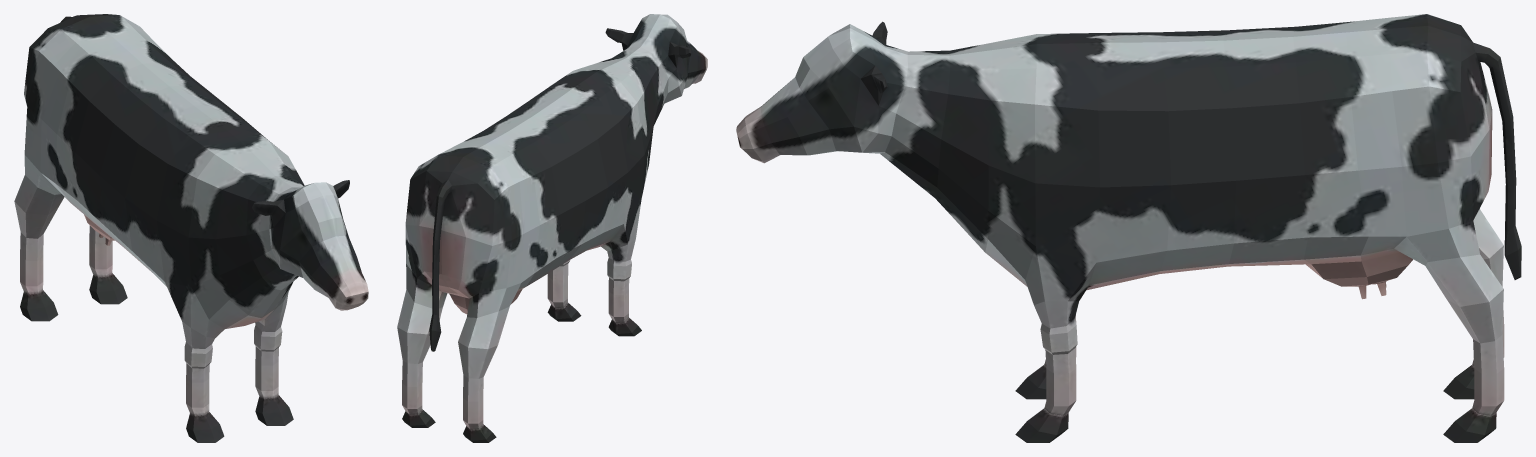
Rendered from animals-cow-041.glb.
The picture shows the model from 3 angles, left to right: view 1: azimuth 30°, elevation 25°; view 2: azimuth 150°, elevation 25°; view 3: azimuth 270°, elevation 25°; orthographic projection. The views are drawn at different scales.
Visible parts, largest first — view 1: Cow_mesh; view 2: Cow_mesh; view 3: Cow_mesh.
Part boxes in pixels (x1,y1,x2,y2): Cow_mesh: (14, 14, 368, 442); Cow_mesh: (397, 14, 707, 442); Cow_mesh: (736, 14, 1521, 442).
Bounding box in the file's own units: 3.36 × 7.42 × 13.65.
Materials: 1 (1 with a texture image).
